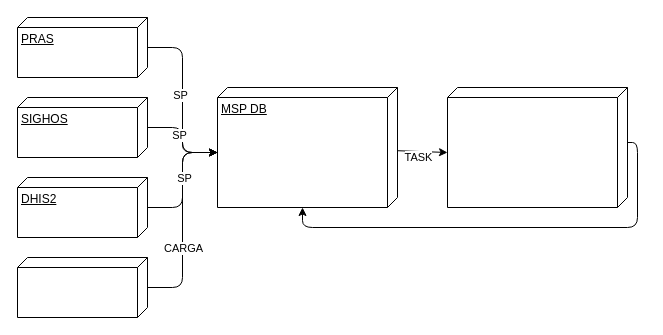
Some shapes in this 663 by 335 pixel diagram are drawn without their labels. Each missing label, with the centre of its shape:
DATA_PROCES_SV: the point at 537,147
EXCEL: the point at 82,287
